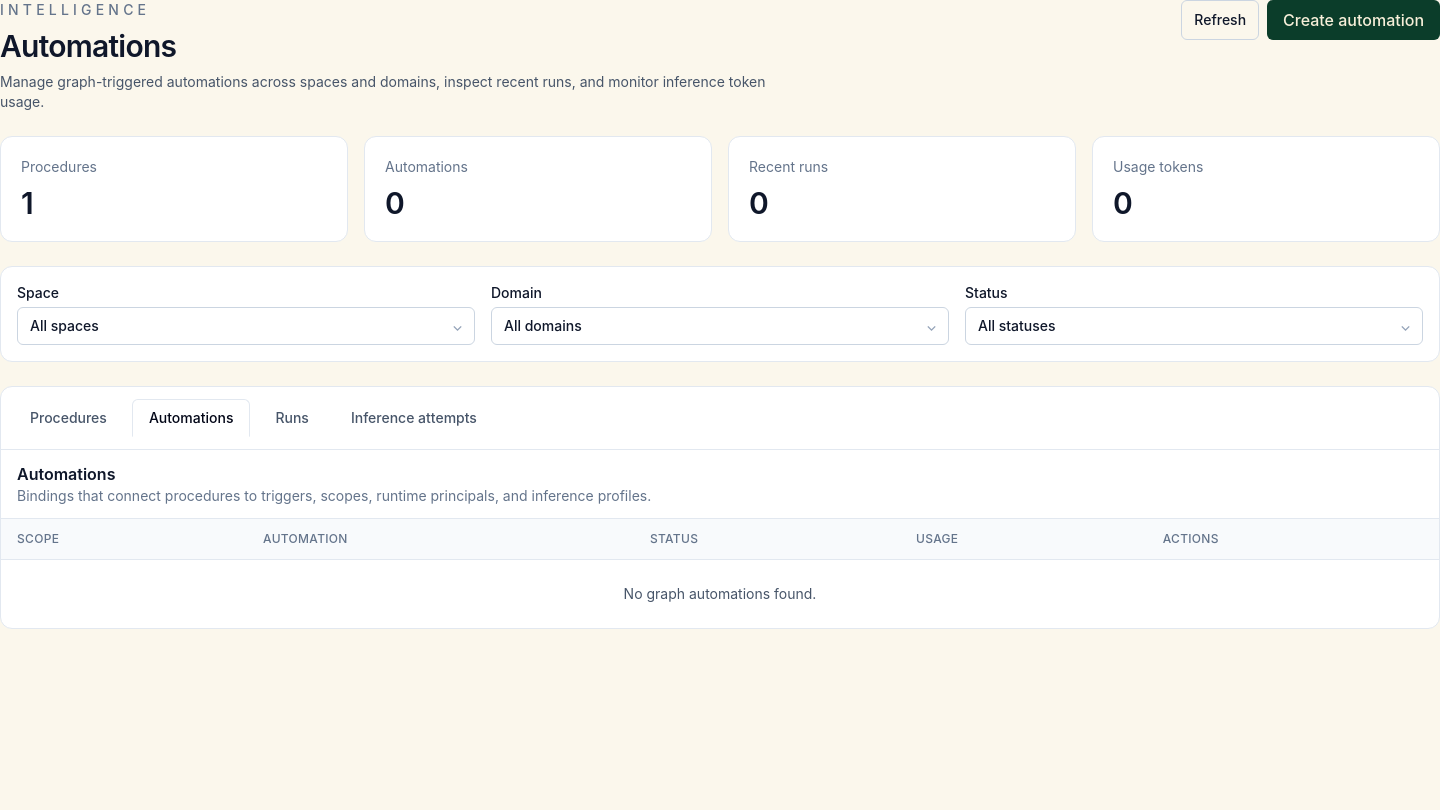
Test case: confirms idempotent procedure enable actions
Click the tab "Procedures".
click(68, 418)  # box [13,399,124,437]
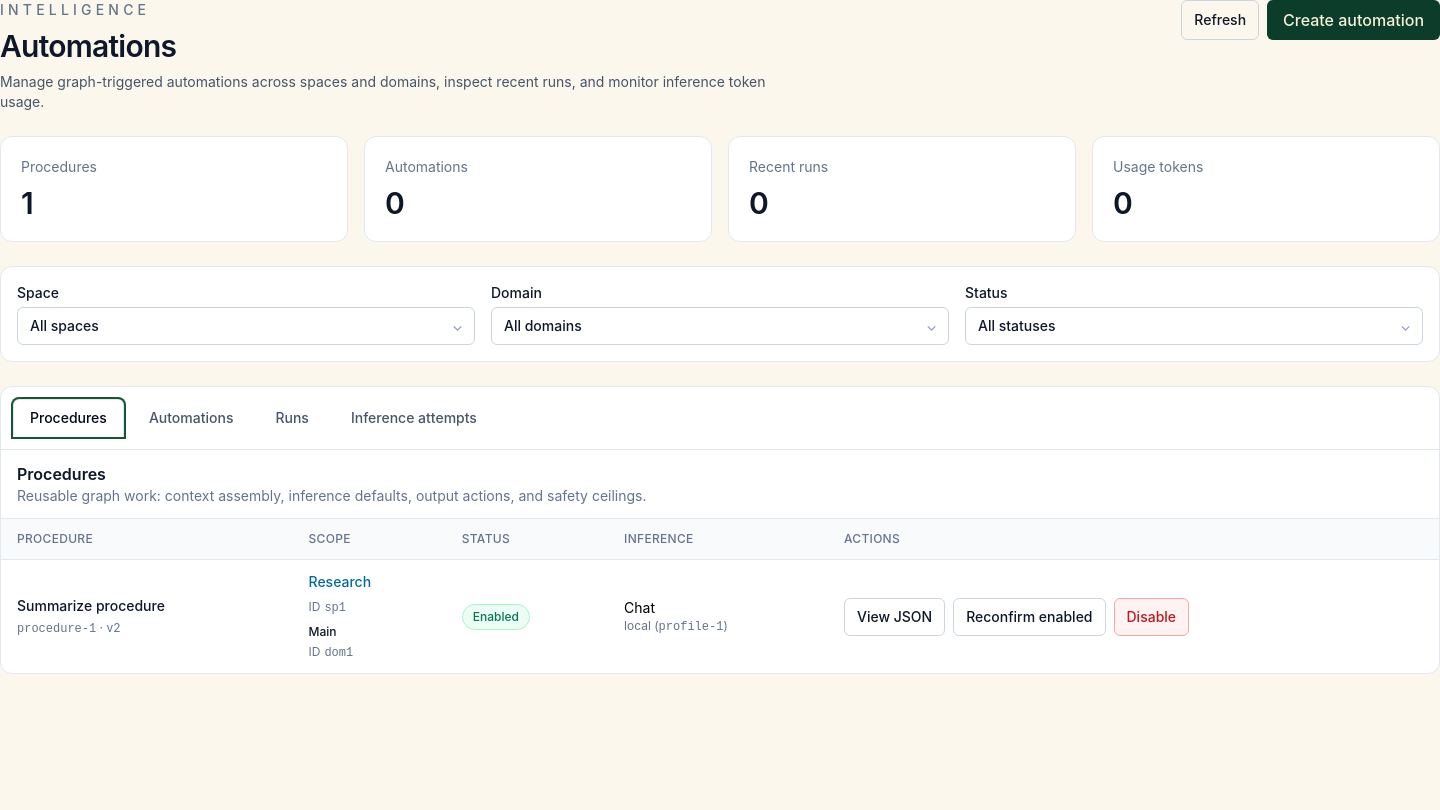
Click the button "Reconfirm enabled".
click(1029, 616)  # box [953,598,1106,636]
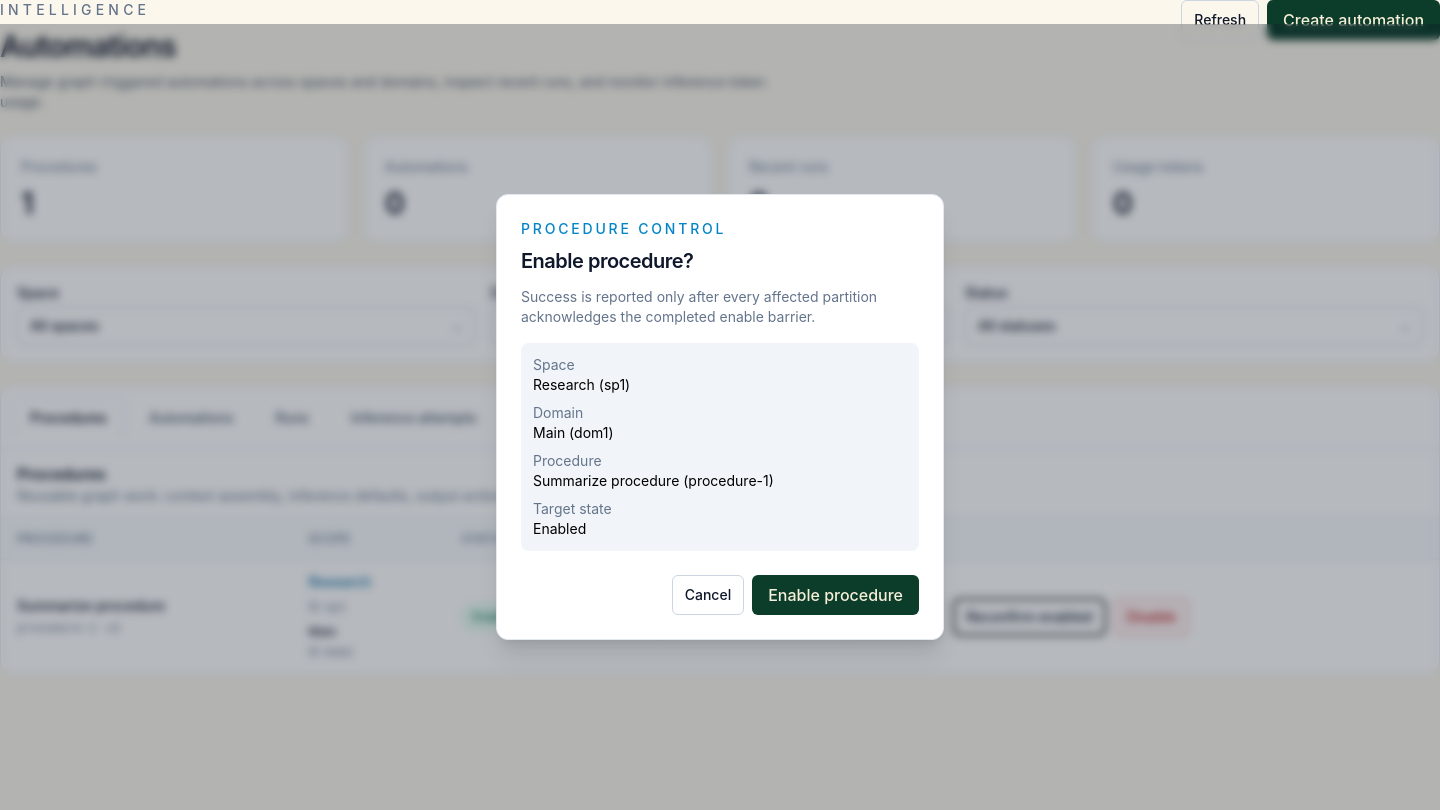
Now the text "every affected partition acknowledges" is shown, box [521,288,877,325]
Click the button "Enable procedure".
click(836, 595)  # box [752,575,919,615]
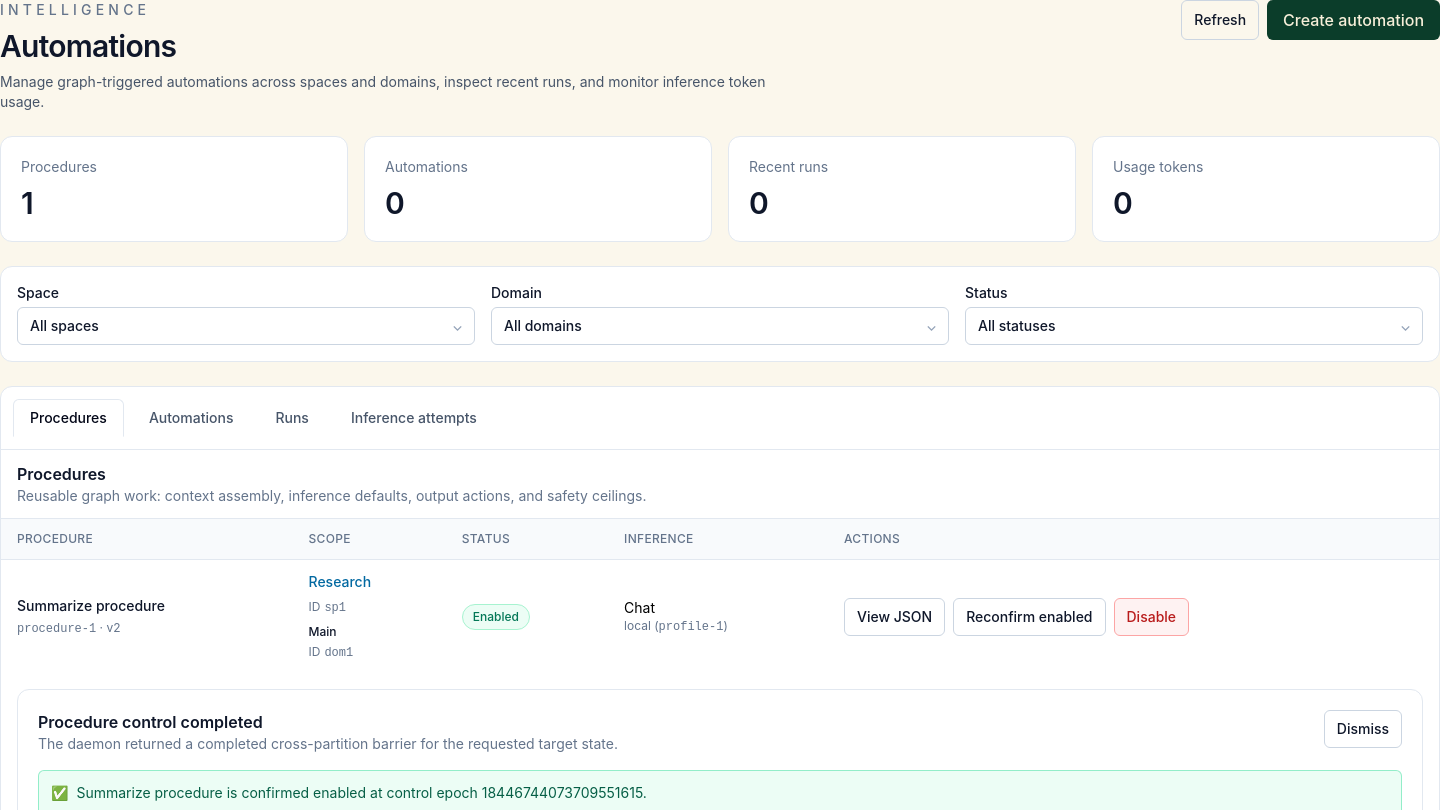
Now the heading "Procedure control completed" is shown, box [38,712,263,732]
